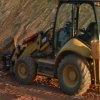Tractor: (7, 26, 100, 91)
